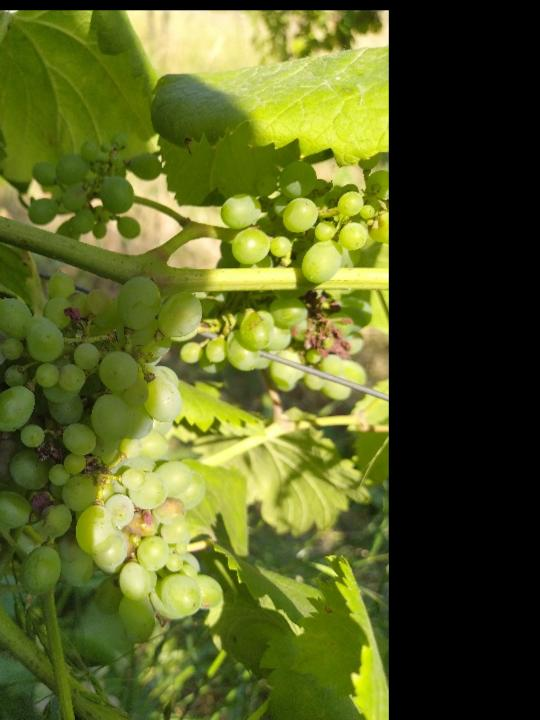grape: (0, 267, 225, 647), (177, 154, 388, 402), (23, 131, 165, 242)
